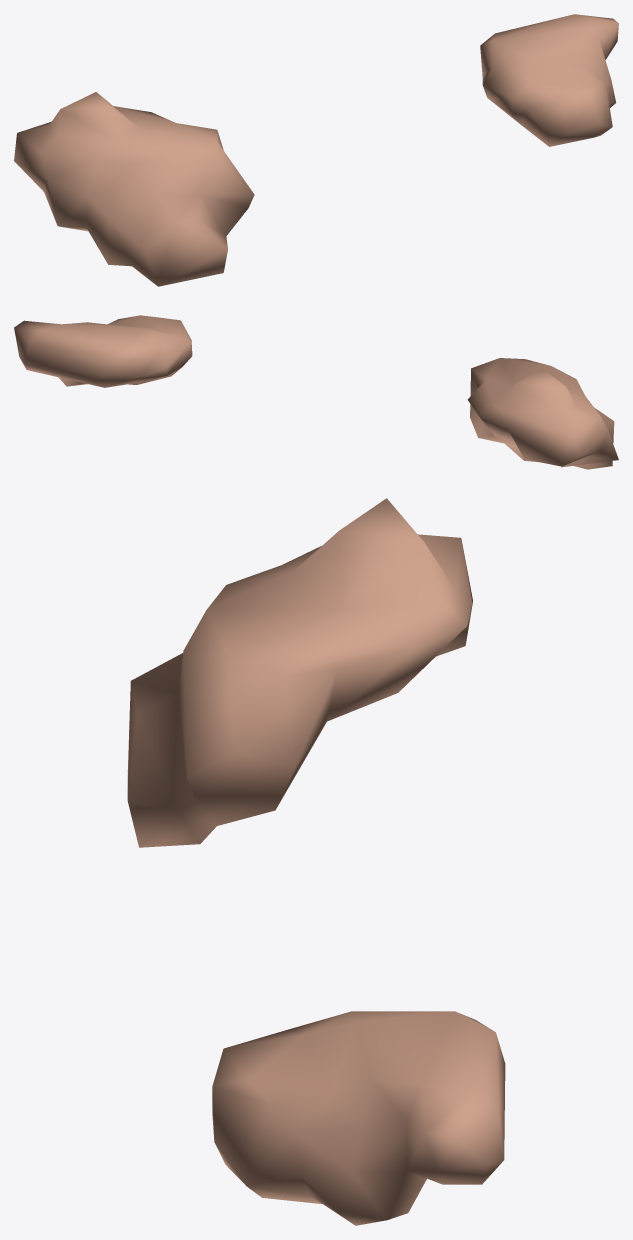
File: fetus.endocrine.LOD2.glb
The picture shows the model from 3 angles, top to bottom: view 1: azimuth 30°, elevation 25°; view 2: azimuth 150°, elevation 25°; view 3: azimuth 270°, elevation 25°; orthographic projection. The views are drawn at different scales.
Parts seen in each view (by area): view 1: FETUS.ENDOCRINE.ADRENAL_GLAND.R, FETUS.ENDOCRINE.ADRENAL_GLAND.L; view 2: FETUS.ENDOCRINE.ADRENAL_GLAND.R, FETUS.ENDOCRINE.ADRENAL_GLAND.L; view 3: FETUS.ENDOCRINE.ADRENAL_GLAND.R, FETUS.ENDOCRINE.ADRENAL_GLAND.L.
Part boxes in pixels (x1=…): FETUS.ENDOCRINE.ADRENAL_GLAND.R: x1=14, y1=92, x2=254, y2=286; FETUS.ENDOCRINE.ADRENAL_GLAND.L: x1=480, y1=14, x2=618, y2=146; FETUS.ENDOCRINE.ADRENAL_GLAND.R: x1=467, y1=358, x2=618, y2=469; FETUS.ENDOCRINE.ADRENAL_GLAND.L: x1=14, y1=315, x2=192, y2=387; FETUS.ENDOCRINE.ADRENAL_GLAND.R: x1=127, y1=498, x2=472, y2=847; FETUS.ENDOCRINE.ADRENAL_GLAND.L: x1=212, y1=1011, x2=505, y2=1225.
Size of the model in its own units: 0.0338 by 0.00752 by 0.00978.
